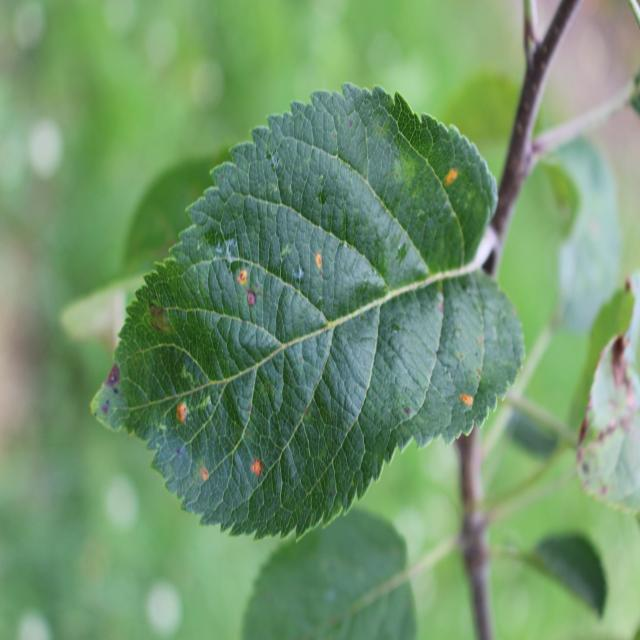Rust: (230, 250, 265, 326), (164, 383, 195, 447), (451, 379, 486, 429), (433, 151, 464, 206), (244, 429, 266, 498), (309, 237, 332, 293), (193, 458, 214, 498)
